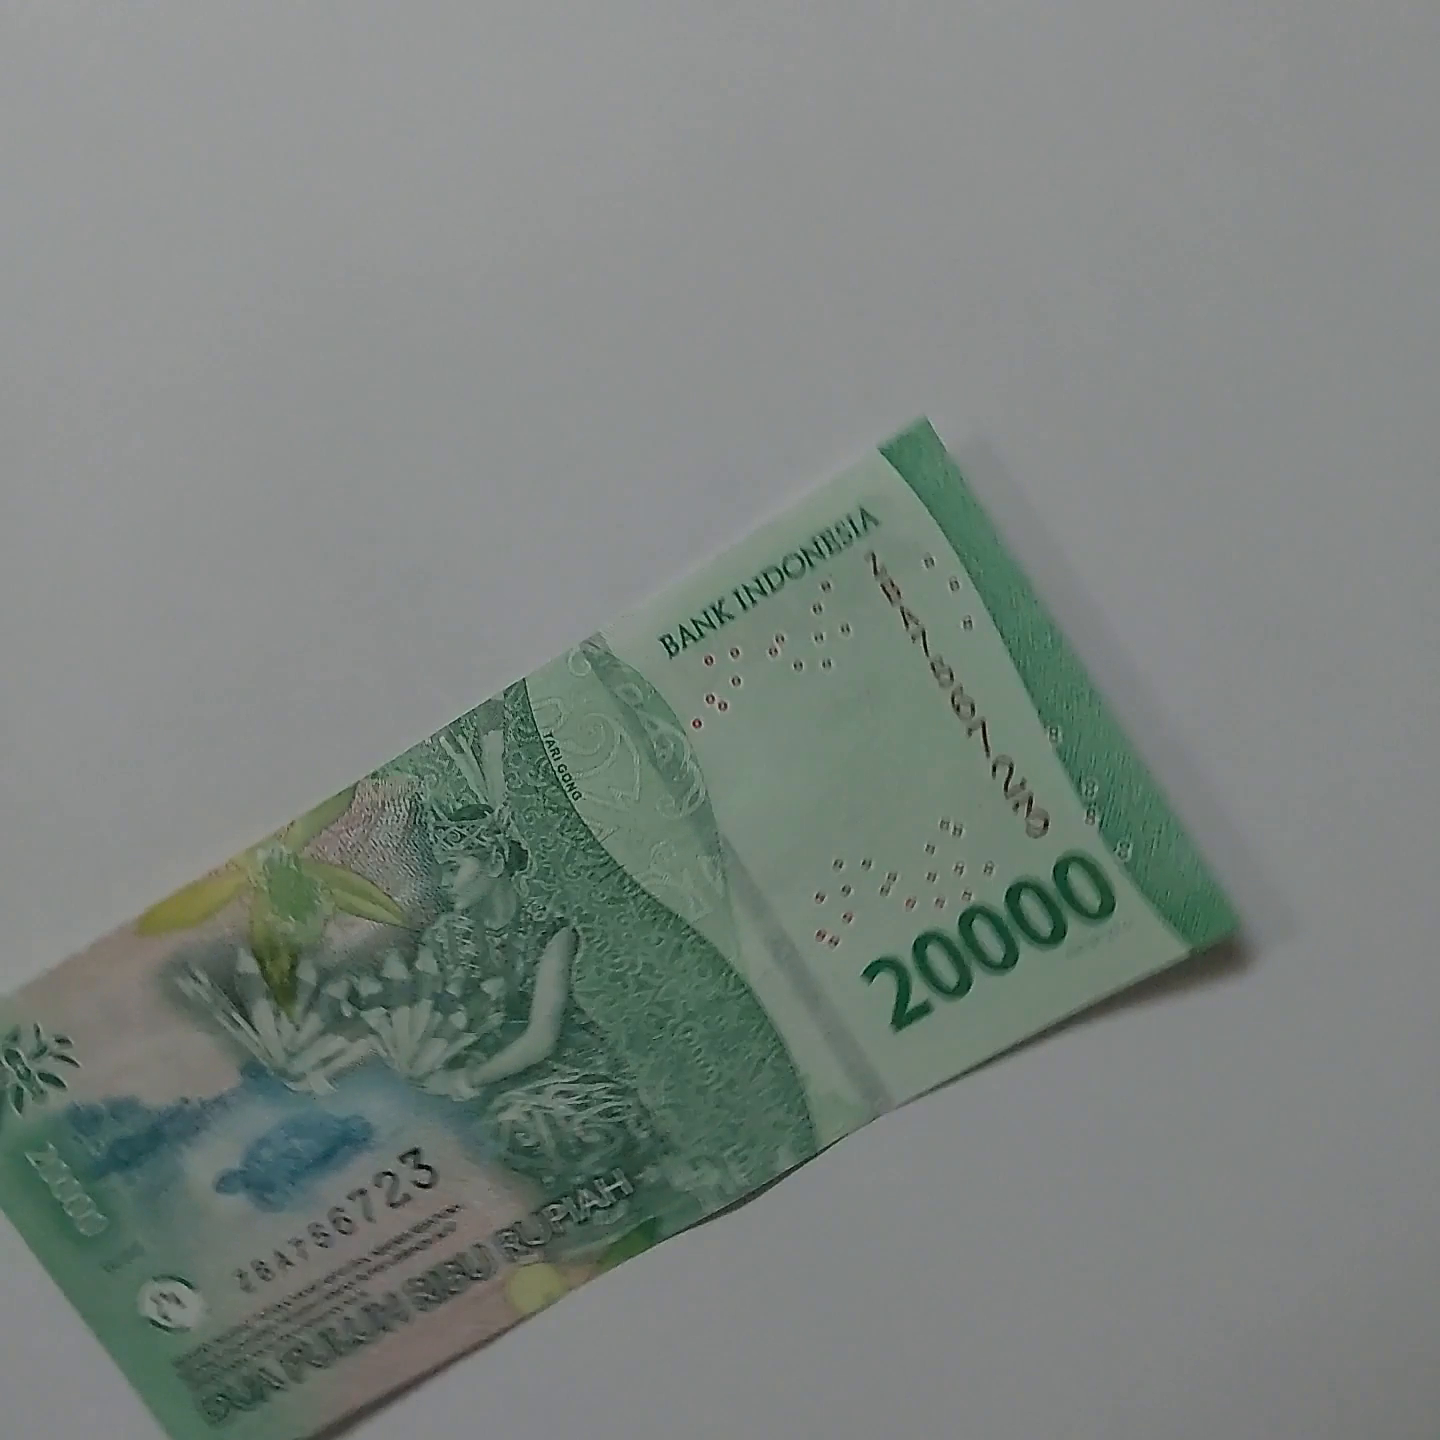20k: (0, 353, 1230, 1435)
